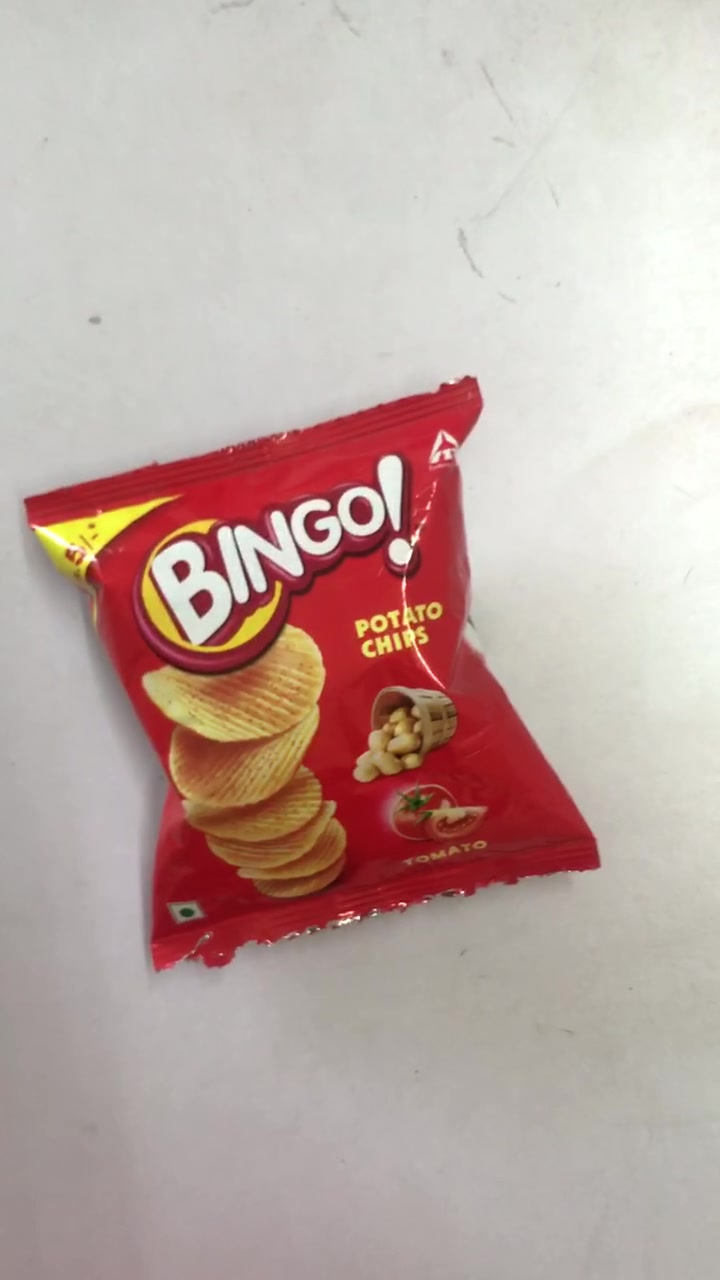Bingo: (41, 457, 592, 962)
